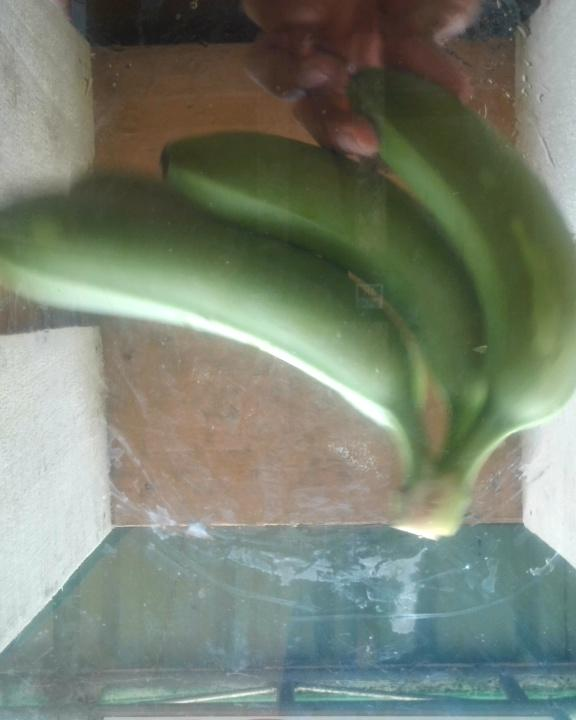SPOT: (2, 64, 573, 540)
